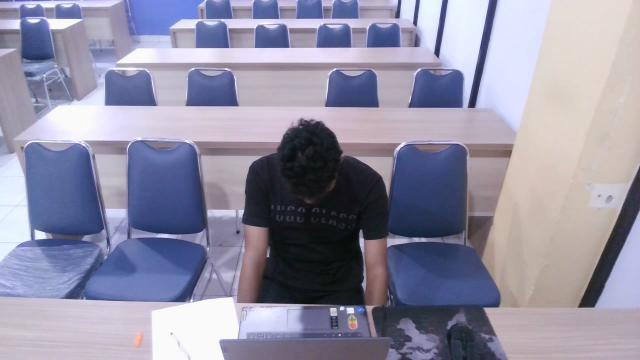Head_Down_Extreme: (241, 117, 389, 273)
